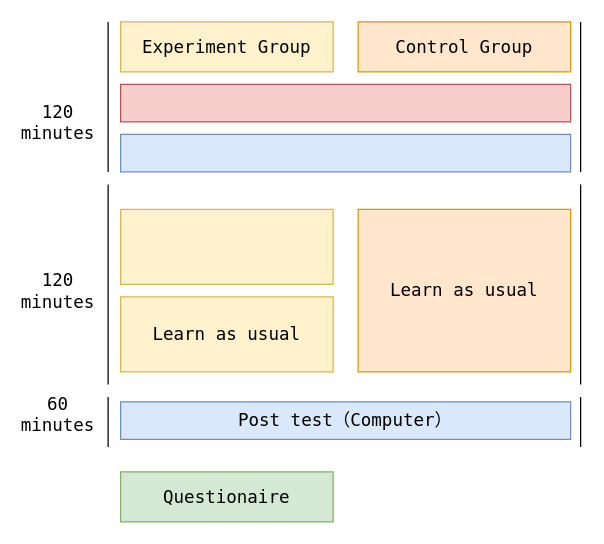
Image size: 604x544. Some labels were removed from this diagram. The shapes that lost their labels are listed below. From the top down, each one's centre as x and y in pixels, then its label:
point (345, 102): Git Lesson
point (345, 152): Pretest（Paper）
point (226, 246): Game Learning
